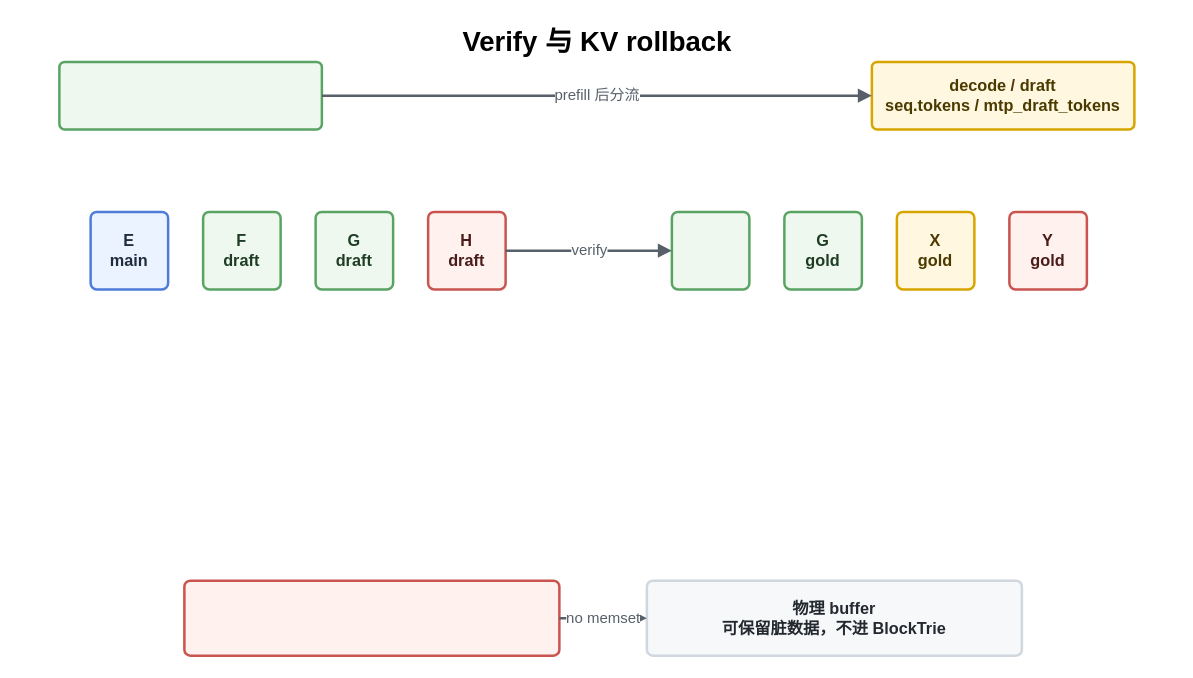
Image size: 1193x678. Some labels were removed from this diagram. The centre of each missing label's shape, as x and y in pixels:
"F gold" belongs at (710,250).
"prompt prefix BlockTrie match/cache" belongs at (190,95).
"逻辑回滚 cache_len / max_k_len 截断" belongs at (371,617).
